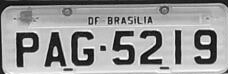2: (140, 28, 163, 68)
5: (108, 28, 137, 67)
9: (192, 27, 219, 67)
A: (44, 31, 66, 67)
G: (71, 31, 97, 67)
I: (169, 28, 185, 67)
P: (14, 31, 40, 69)
